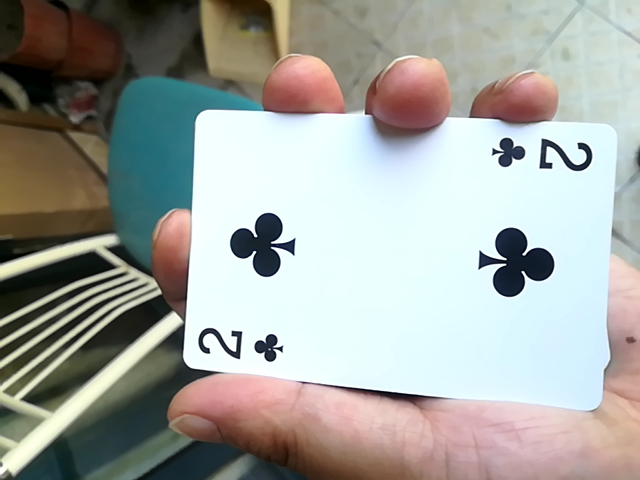mh 2: (162, 100, 626, 398)
